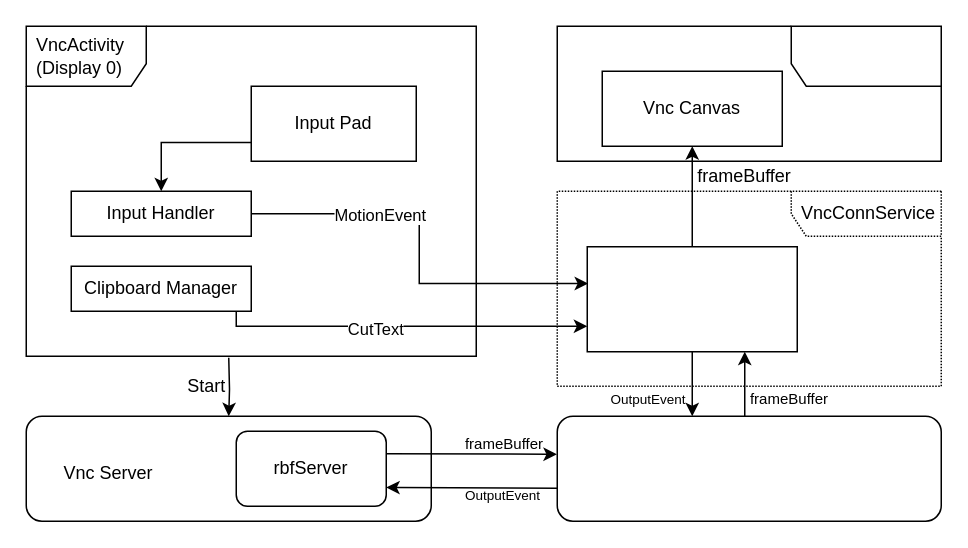
Image size: 968x548. Some labels were removed from this diagram. The shapes that lost their labels are listed below. From the top down, each one's box as (x1, y1, x2, y2) in pixels, then its label:
(556, 25, 941, 161): VncPresentation (Display 1)
(586, 245, 797, 352): VncConn
(556, 415, 941, 521): rfbClient
